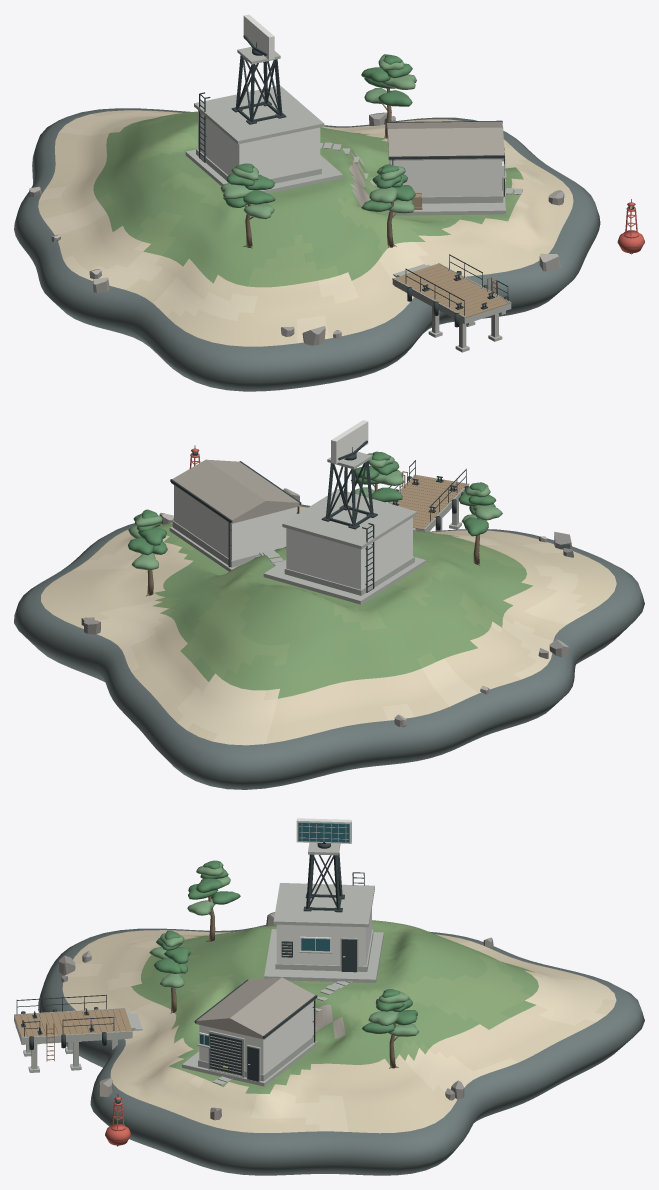
File: ENV_RadarOutpost__Seed20261196.fbx
The picture shows the model from 3 angles, top to bottom: view 1: azimuth 30°, elevation 25°; view 2: azimuth 150°, elevation 25°; view 3: azimuth 270°, elevation 25°; orthographic projection. The views are drawn at different scales.
Parts seen in each view (by area): view 1: TerrainShell, ENV_RadarStation_0_Visual, ENV_SupplyDepot_1_Visual, ENV_Jetty_5_Visual, ENV_CoastalPine_3_Visual, Decor_Visual, ENV_CoastalPine_2_Visual, ENV_CoastalPine_4_Visual.001, SearchArrayHead_Visual, ENV_NavigationBuoy_6_Visual; view 2: TerrainShell, ENV_RadarStation_0_Visual, ENV_SupplyDepot_1_Visual, ENV_Jetty_5_Visual, ENV_CoastalPine_2_Visual, Decor_Visual, ENV_CoastalPine_3_Visual, ENV_CoastalPine_4_Visual.001, SearchArrayHead_Visual; view 3: TerrainShell, ENV_RadarStation_0_Visual, ENV_SupplyDepot_1_Visual, ENV_Jetty_5_Visual, ENV_CoastalPine_2_Visual, ENV_CoastalPine_3_Visual, Decor_Visual, ENV_CoastalPine_4_Visual.001, SearchArrayHead_Visual, ENV_NavigationBuoy_6_Visual.
Boxes of the visible parts, left/top/right/bottom form: TerrainShell: left=14, top=108, right=600, bottom=391; ENV_RadarStation_0_Visual: left=185, top=46, right=342, bottom=193; ENV_SupplyDepot_1_Visual: left=386, top=120, right=506, bottom=215; ENV_Jetty_5_Visual: left=392, top=254, right=511, bottom=352; ENV_CoastalPine_3_Visual: left=220, top=163, right=275, bottom=248; Decor_Visual: left=29, top=112, right=564, bottom=345; ENV_CoastalPine_2_Visual: left=361, top=54, right=416, bottom=138; ENV_CoastalPine_4_Visual.001: left=361, top=164, right=415, bottom=247; SearchArrayHead_Visual: left=243, top=14, right=274, bottom=59; ENV_NavigationBuoy_6_Visual: left=617, top=199, right=644, bottom=254; TerrainShell: left=14, top=504, right=644, bottom=789; ENV_RadarStation_0_Visual: left=263, top=451, right=425, bottom=604; ENV_SupplyDepot_1_Visual: left=169, top=459, right=301, bottom=571; ENV_Jetty_5_Visual: left=387, top=460, right=469, bottom=532; ENV_CoastalPine_2_Visual: left=128, top=509, right=167, bottom=596; Decor_Visual: left=81, top=488, right=573, bottom=727; ENV_CoastalPine_3_Visual: left=458, top=482, right=502, bottom=565; ENV_CoastalPine_4_Visual.001: left=351, top=451, right=404, bottom=502; SearchArrayHead_Visual: left=331, top=420, right=368, bottom=463; TerrainShell: left=38, top=920, right=644, bottom=1175; ENV_RadarStation_0_Visual: left=264, top=842, right=383, bottom=982; ENV_SupplyDepot_1_Visual: left=182, top=977, right=317, bottom=1086; ENV_Jetty_5_Visual: left=14, top=994, right=142, bottom=1072; ENV_CoastalPine_2_Visual: left=362, top=989, right=419, bottom=1068; ENV_CoastalPine_3_Visual: left=187, top=860, right=240, bottom=941; Decor_Visual: left=58, top=912, right=493, bottom=1120; ENV_CoastalPine_4_Visual.001: left=149, top=930, right=190, bottom=1013; SearchArrayHead_Visual: left=296, top=818, right=351, bottom=843; ENV_NavigationBuoy_6_Visual: left=105, top=1094, right=130, bottom=1146.
Size of the model in its own units: 2964 by 1343 by 3377.
